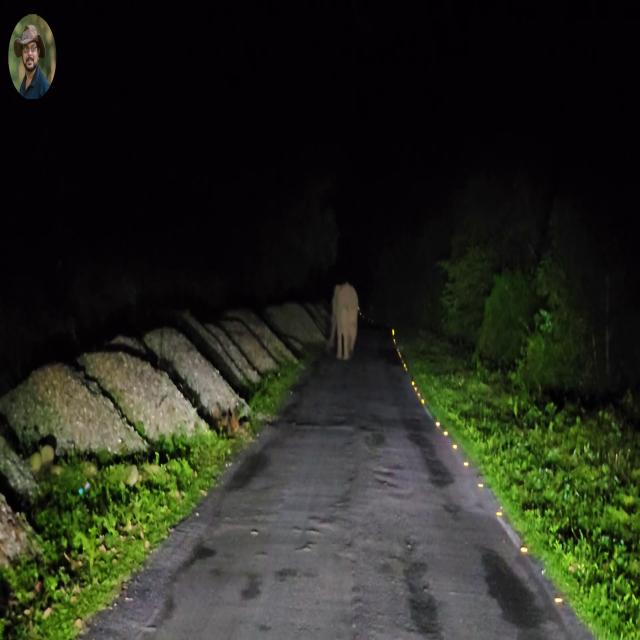Elephant: (326, 281, 360, 361)
